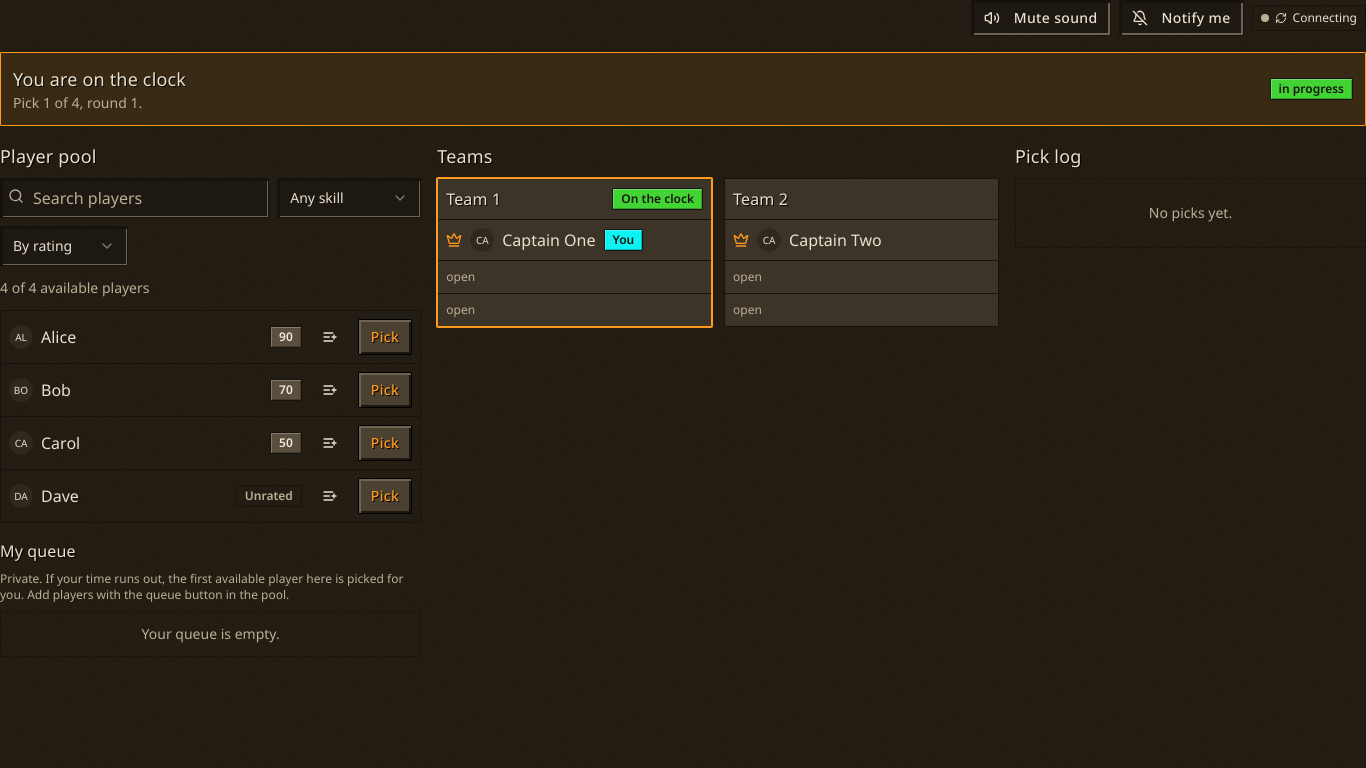
Scenario: DraftRoom › asks for confirmation before picking
Click the button "Pick" next to "90" at (385, 337), box [358,319,412,355]
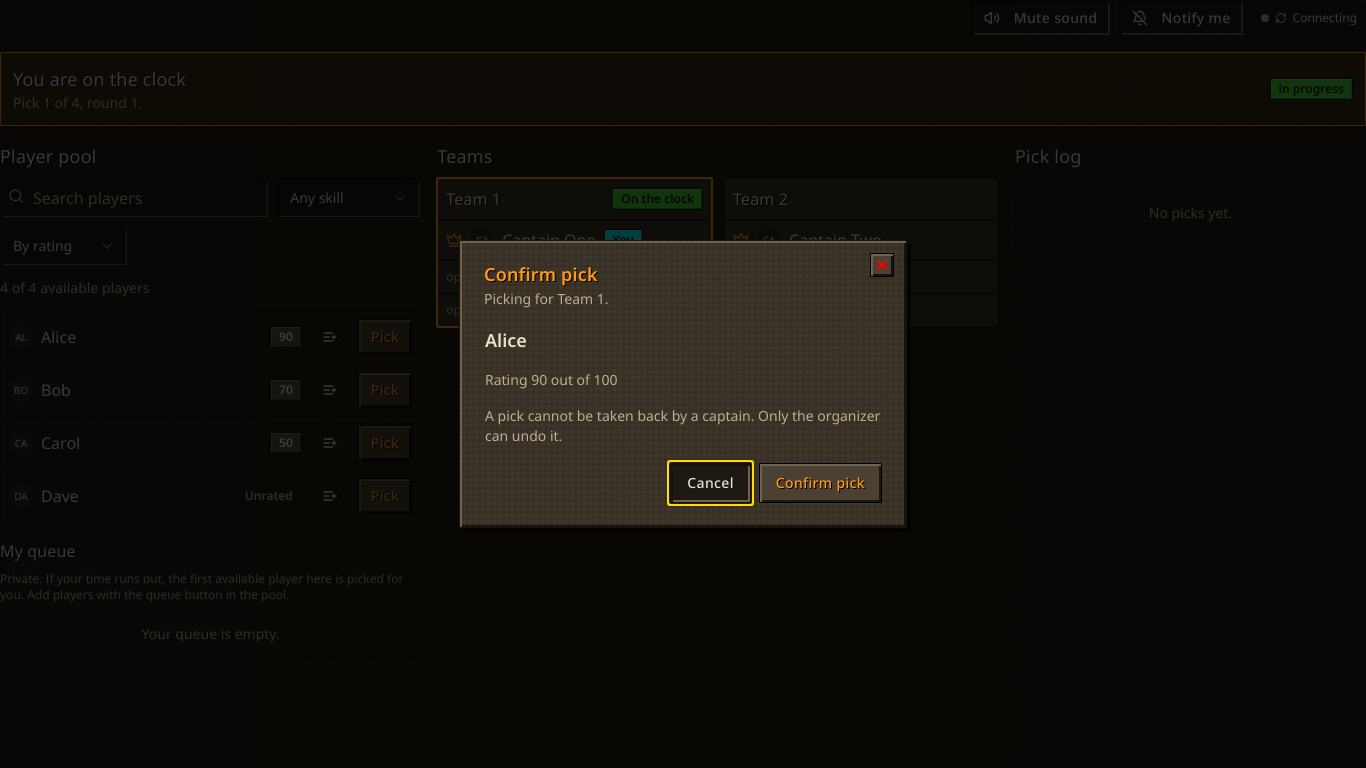
Check: the heading "Confirm pick" is shown, box [484,262,598,286]
Check: the text "Picking for Team 1." is shown, box [484,289,608,308]
Check: the button "Confirm pick" is shown, box [759,463,882,503]
